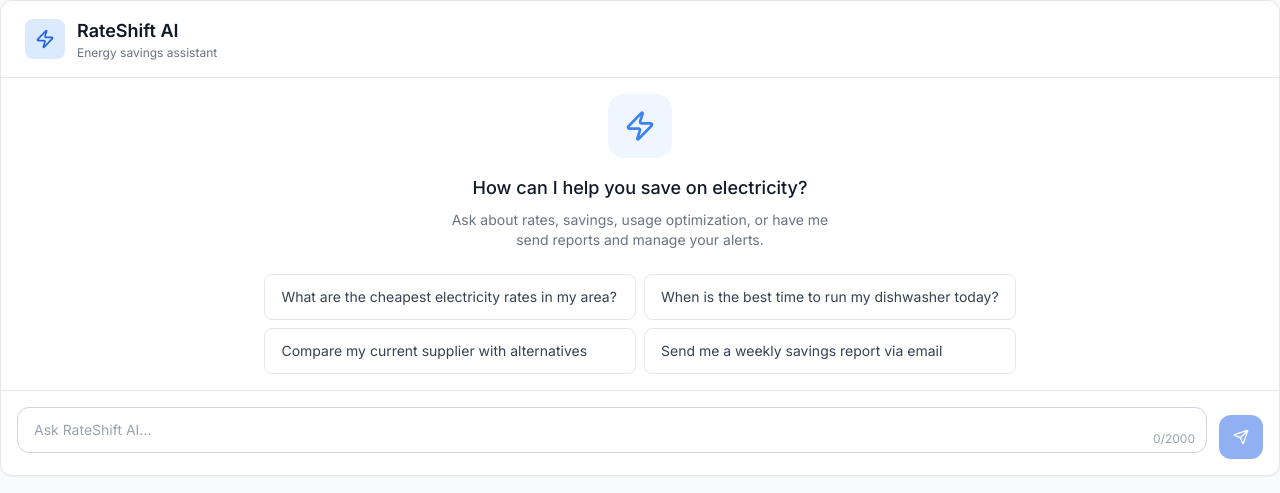
Test: AgentChat › shows character count
Expected: the text "0/2000" is shown, [1153,431,1195,447]
Type "Hello" into the text box with placeholder "Ask RateShift AI...".
click(612, 430); type("Hello")  # box [17,407,1207,453]
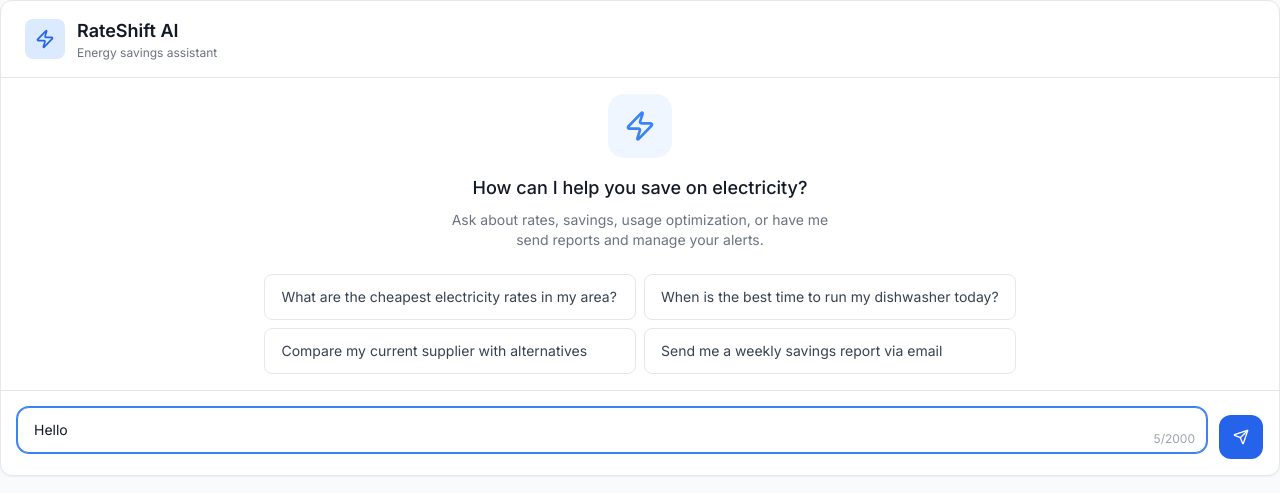
Expected: the text "5/2000" is shown, [1154,431,1195,447]
